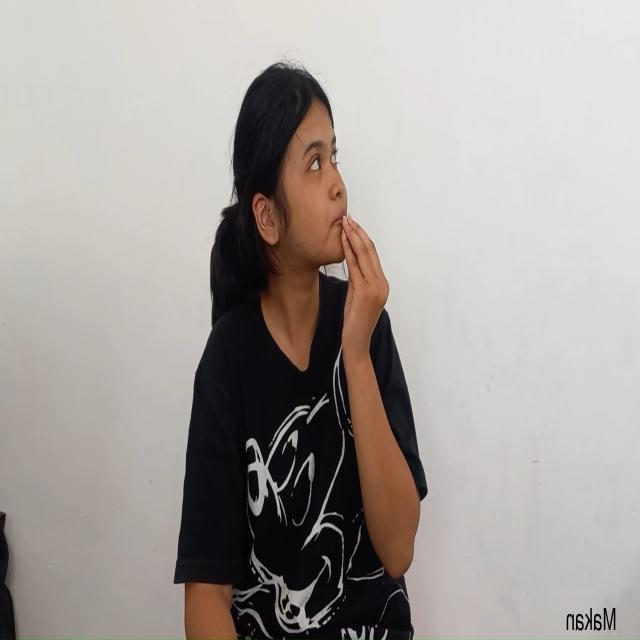Makan -BISINDO-: (236, 52, 391, 432)
